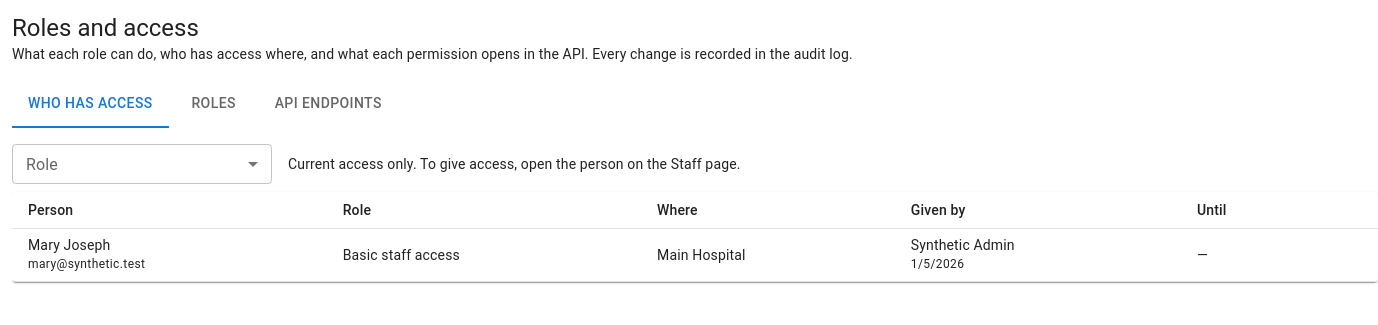
AccessPage › hides role and access changes from view-only users
Expected: the text "Mary Joseph" is shown, top-left (28, 237), bottom-right (110, 253)
Click the tab "Roles".
click(214, 104)  # box top-left (169, 80), bottom-right (259, 128)
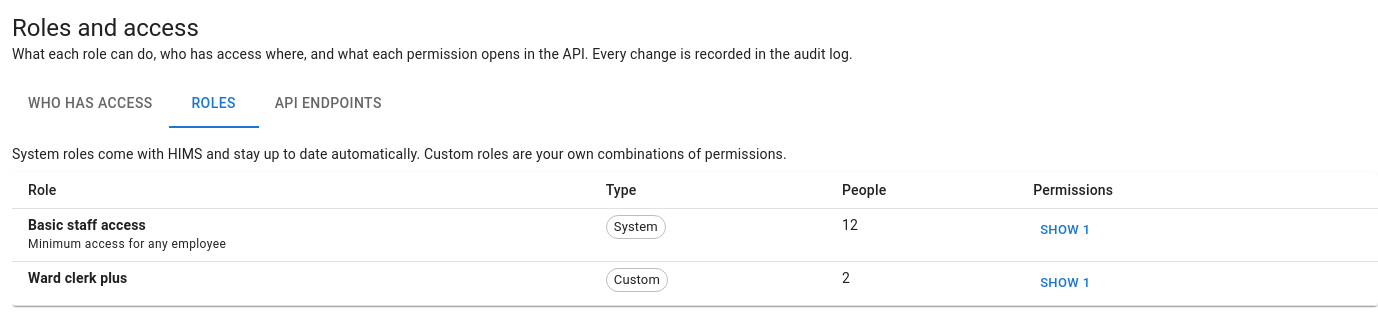
Expected: the text "Ward clerk plus" is shown, top-left (28, 270), bottom-right (128, 286)
